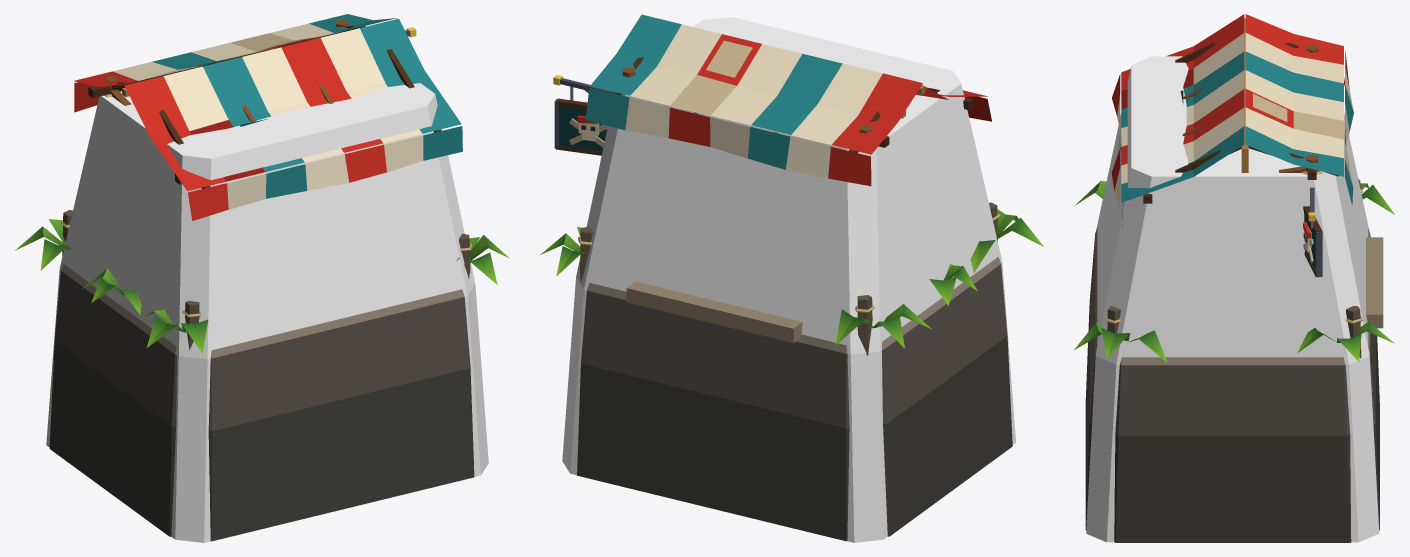
Rendered from coastal_buccaneer_grog_stall.glb.
The picture shows the model from 3 angles, left to right: view 1: azimuth 30°, elevation 25°; view 2: azimuth 150°, elevation 25°; view 3: azimuth 270°, elevation 25°; orthographic projection. The views are drawn at different scales.
Visible parts, largest first — view 1: coastal_buccaneer_grog_stall, col_grogstall_base; view 2: coastal_buccaneer_grog_stall, col_grogstall_base; view 3: coastal_buccaneer_grog_stall, col_grogstall_base.
Boxes of the visible parts, x1,y1,x2,y2 form: coastal_buccaneer_grog_stall: [15, 14, 509, 541]; col_grogstall_base: [46, 52, 488, 542]; coastal_buccaneer_grog_stall: [540, 14, 1043, 541]; col_grogstall_base: [562, 17, 1015, 542]; coastal_buccaneer_grog_stall: [1073, 14, 1394, 542]; col_grogstall_base: [1086, 56, 1379, 542].
Bounding box in the file's own units: 6.14 × 6.26 × 4.71.
